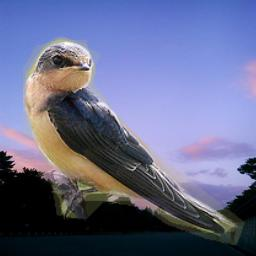Swallow: (23, 30, 248, 245)
